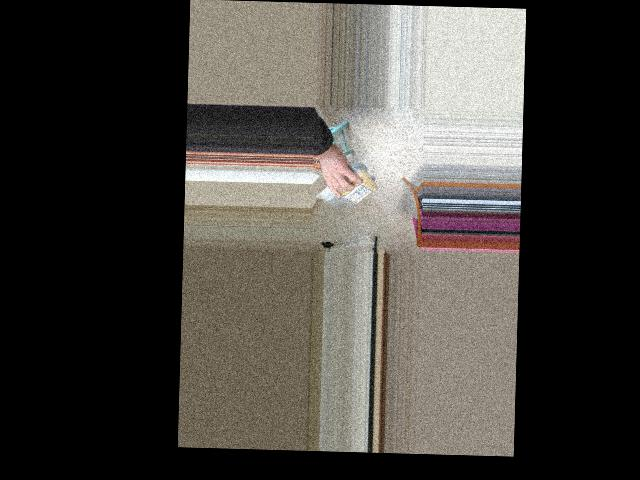cheese: (315, 173, 385, 205)
